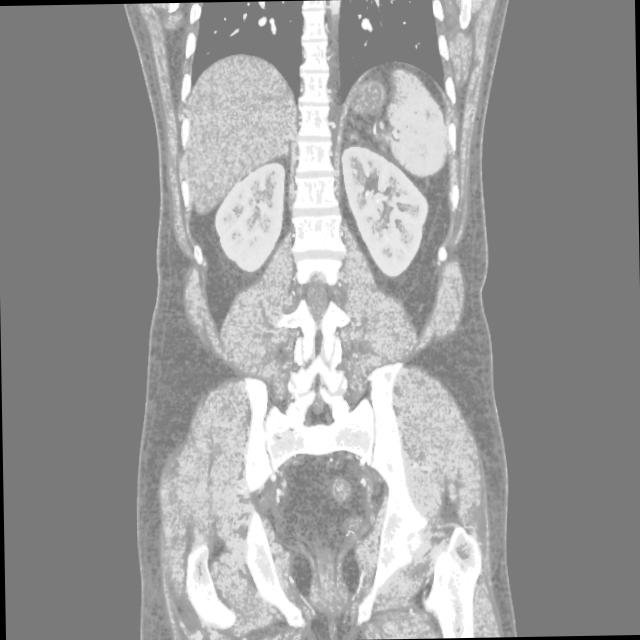NORMAL: (128, 47, 510, 528)
